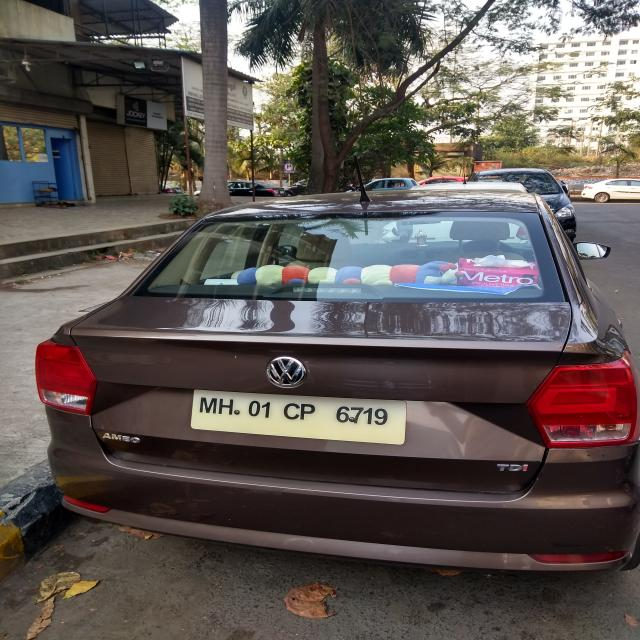Number-Plate: (187, 393, 409, 438)
